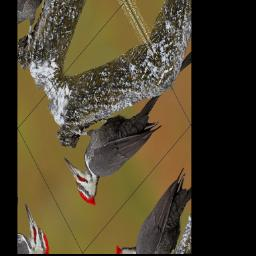Woodpecker: (56, 50, 174, 214)
